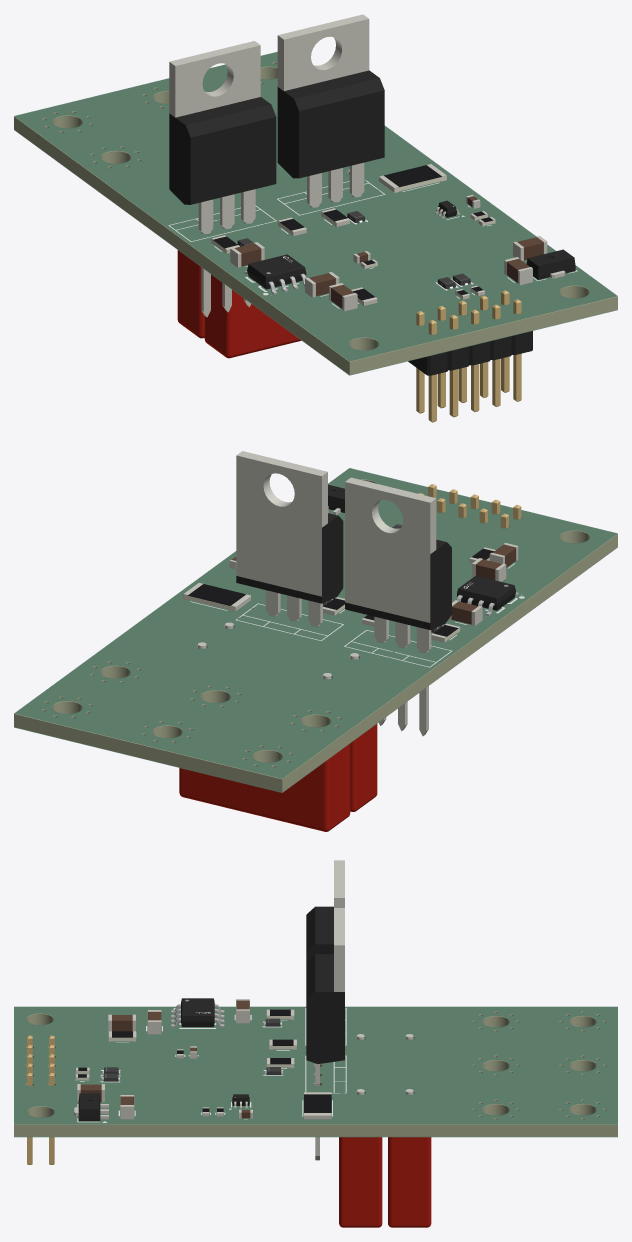
Rendered from HBM_G0VH4C5.glb.
The picture shows the model from 3 angles, top to bottom: view 1: azimuth 30°, elevation 25°; view 2: azimuth 150°, elevation 25°; view 3: azimuth 270°, elevation 25°; orthographic projection. The views are drawn at different scales.
Parts seen in each view (by area): view 1: =>[0:1:1:37], =>[0:1:1:35], =>[0:1:1:3] (×2), =>[0:1:1:32], =>[0:1:1:30] (×2), =>[0:1:1:7] (×5), =>[0:1:1:24], =>[0:1:1:20], =>[0:1:1:11], =>[0:1:1:33], =>[0:1:1:36]; view 2: =>[0:1:1:37], =>[0:1:1:35], =>[0:1:1:3] (×2), =>[0:1:1:30] (×2), =>[0:1:1:24], =>[0:1:1:7] (×2), =>[0:1:1:20], =>[0:1:1:32], =>[0:1:1:33], =>[0:1:1:36]; view 3: =>[0:1:1:37], =>[0:1:1:35], =>[0:1:1:30] (×2), =>[0:1:1:3] (×2), =>[0:1:1:24], =>[0:1:1:36], =>[0:1:1:32], =>[0:1:1:33], =>[0:1:1:11], =>[0:1:1:20].
Boxes of the visible parts, <box> form: =>[0:1:1:37]: <box>14,53,617,375</box>; =>[0:1:1:35]: <box>14,51,617,361</box>; =>[0:1:1:3] (×2): <box>169,14,384,317</box>; =>[0:1:1:32]: <box>408,290,532,422</box>; =>[0:1:1:30] (×2): <box>177,169,349,358</box>; =>[0:1:1:7] (×5): <box>230,236,547,311</box>; =>[0:1:1:24]: <box>244,254,306,294</box>; =>[0:1:1:20]: <box>379,164,446,192</box>; =>[0:1:1:11]: <box>526,249,575,279</box>; =>[0:1:1:33]: <box>168,180,577,308</box>; =>[0:1:1:36]: <box>14,130,617,375</box>; =>[0:1:1:37]: <box>14,469,617,792</box>; =>[0:1:1:35]: <box>14,468,617,778</box>; =>[0:1:1:3] (×2): <box>236,451,451,736</box>; =>[0:1:1:30] (×2): <box>179,622,377,831</box>; =>[0:1:1:24]: <box>457,576,518,615</box>; =>[0:1:1:7] (×2): <box>448,558,506,625</box>; =>[0:1:1:20]: <box>183,583,250,611</box>; =>[0:1:1:32]: <box>418,484,521,528</box>; =>[0:1:1:33]: <box>190,563,524,667</box>; =>[0:1:1:36]: <box>14,547,617,792</box>; =>[0:1:1:37]: <box>14,1007,617,1136</box>; =>[0:1:1:35]: <box>14,1006,617,1124</box>; =>[0:1:1:30] (×2): <box>339,1034,431,1227</box>; =>[0:1:1:3] (×2): <box>306,860,344,1160</box>; =>[0:1:1:24]: <box>171,998,224,1027</box>; =>[0:1:1:36]: <box>14,1136,617,1137</box>; =>[0:1:1:32]: <box>27,1035,54,1164</box>; =>[0:1:1:33]: <box>77,1008,346,1122</box>; =>[0:1:1:11]: <box>74,1093,108,1121</box>; =>[0:1:1:20]: <box>304,1092,331,1119</box>.
Size of the model in its own units: 0.0321 by 0.0355 by 0.0696.
